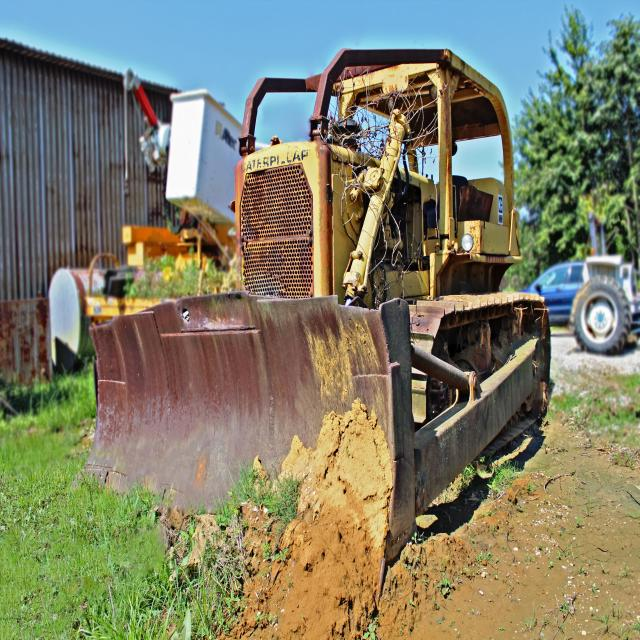buldozerpayloadergrader: (72, 44, 578, 588)
